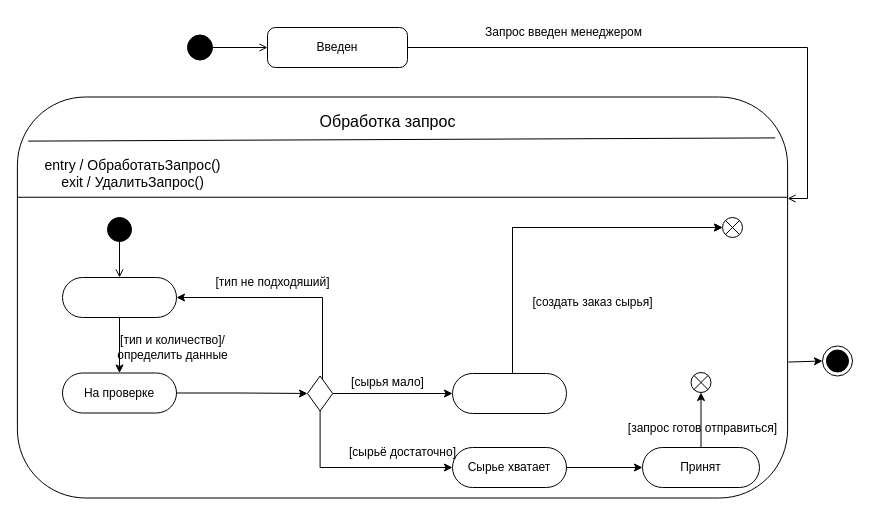
This 871x515 diagram has some shape labels left out. Each missing label, with the centre of its shape:
"Доступ к запросу" goes at point (119, 297).
"Сырья не хватает" goes at point (509, 393).
